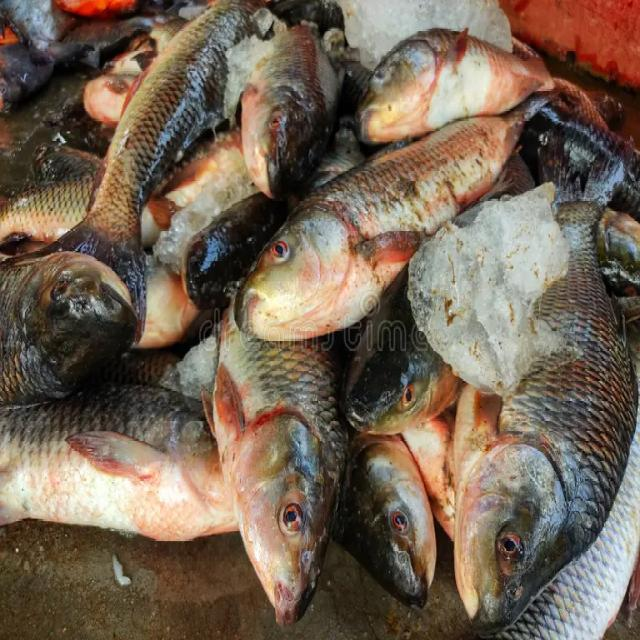Rohu: (5, 255, 133, 405)
